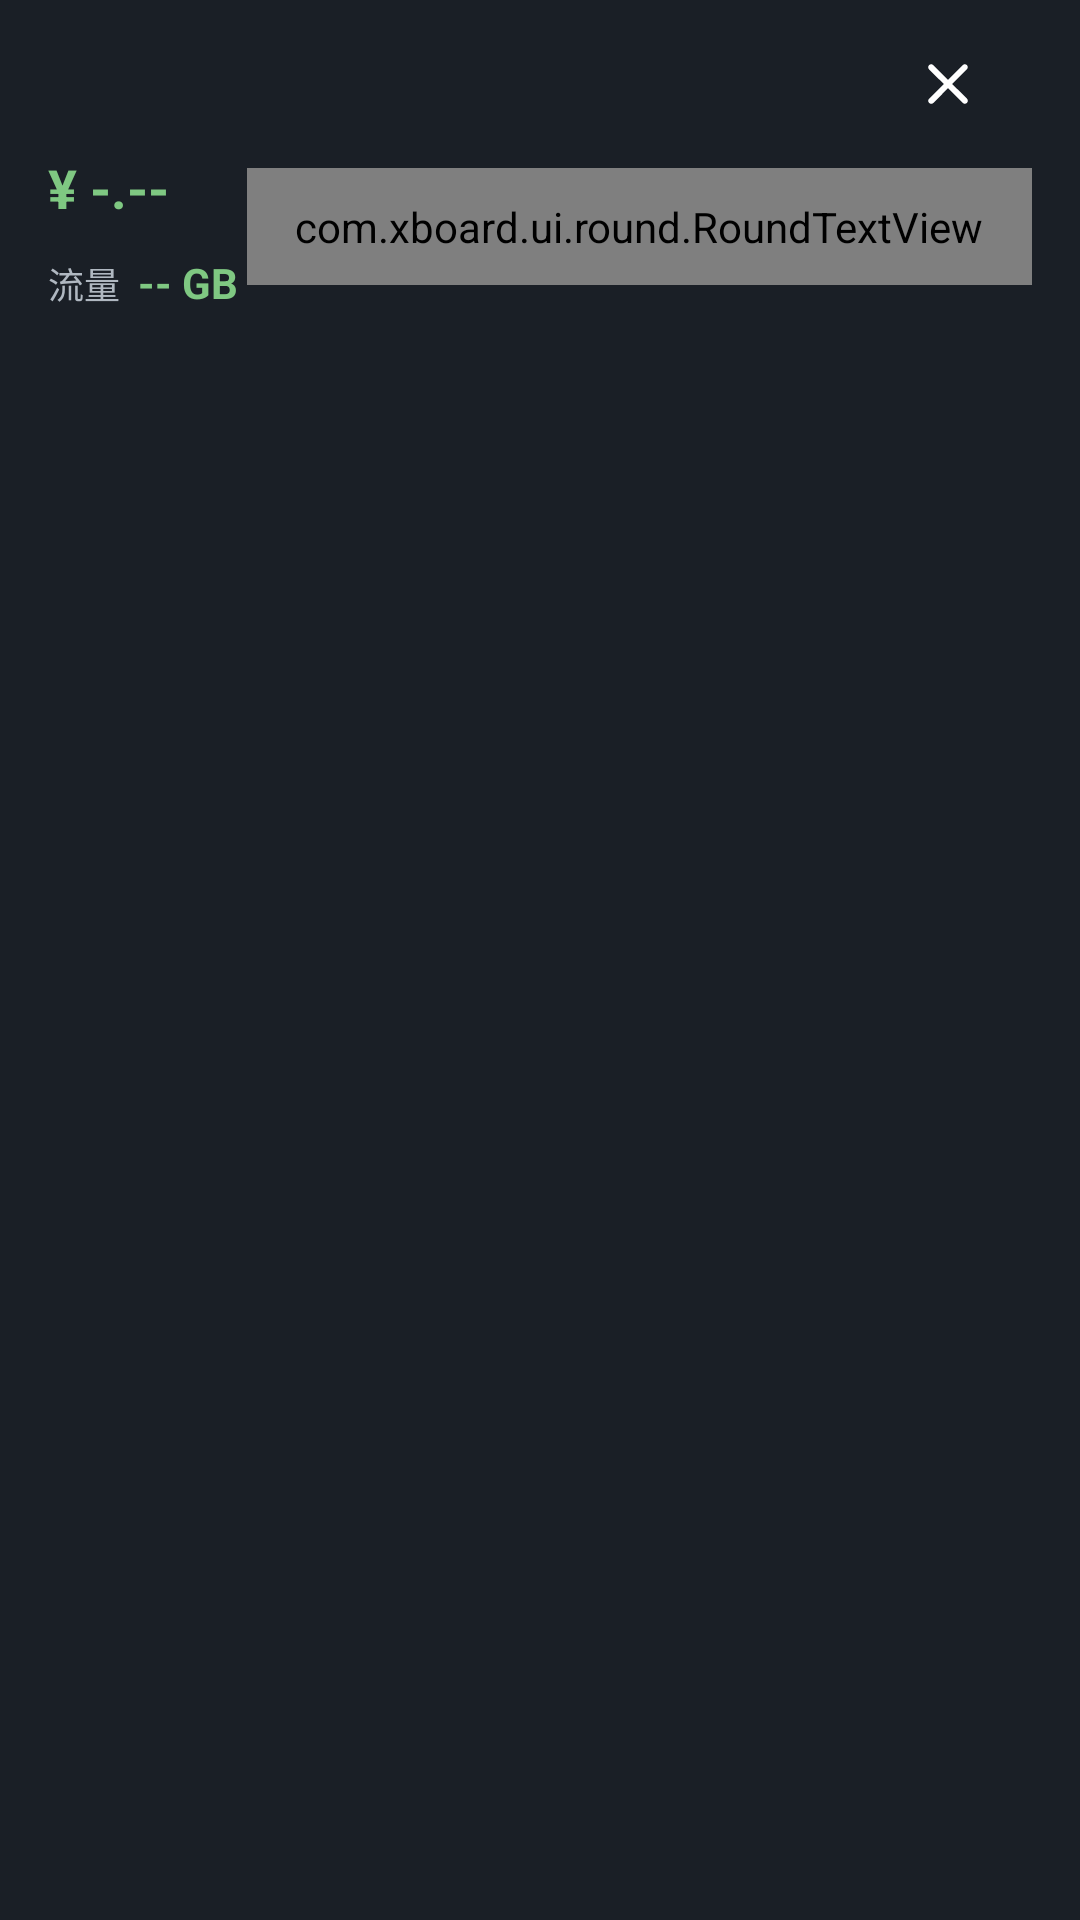

Icon bounding boxes for this 1080w x 1920h phone screenshot, format Rect(x1, y1, x2, y2):
close: Rect(928, 64, 968, 104)
